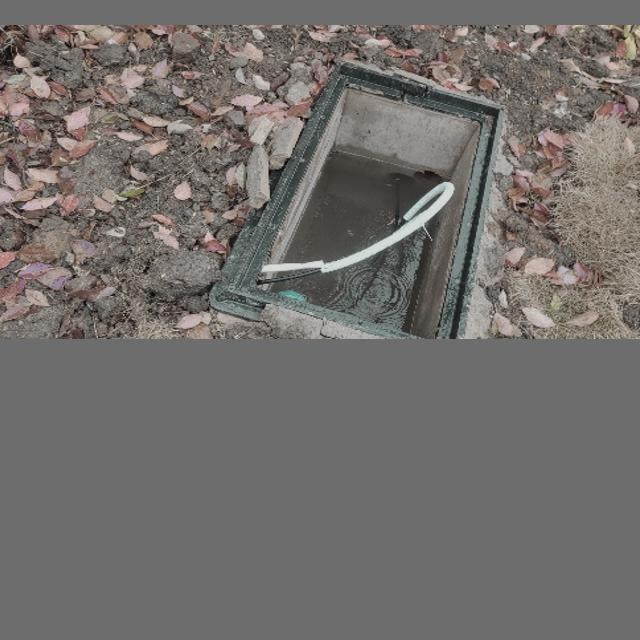lose: (204, 61, 504, 337)
